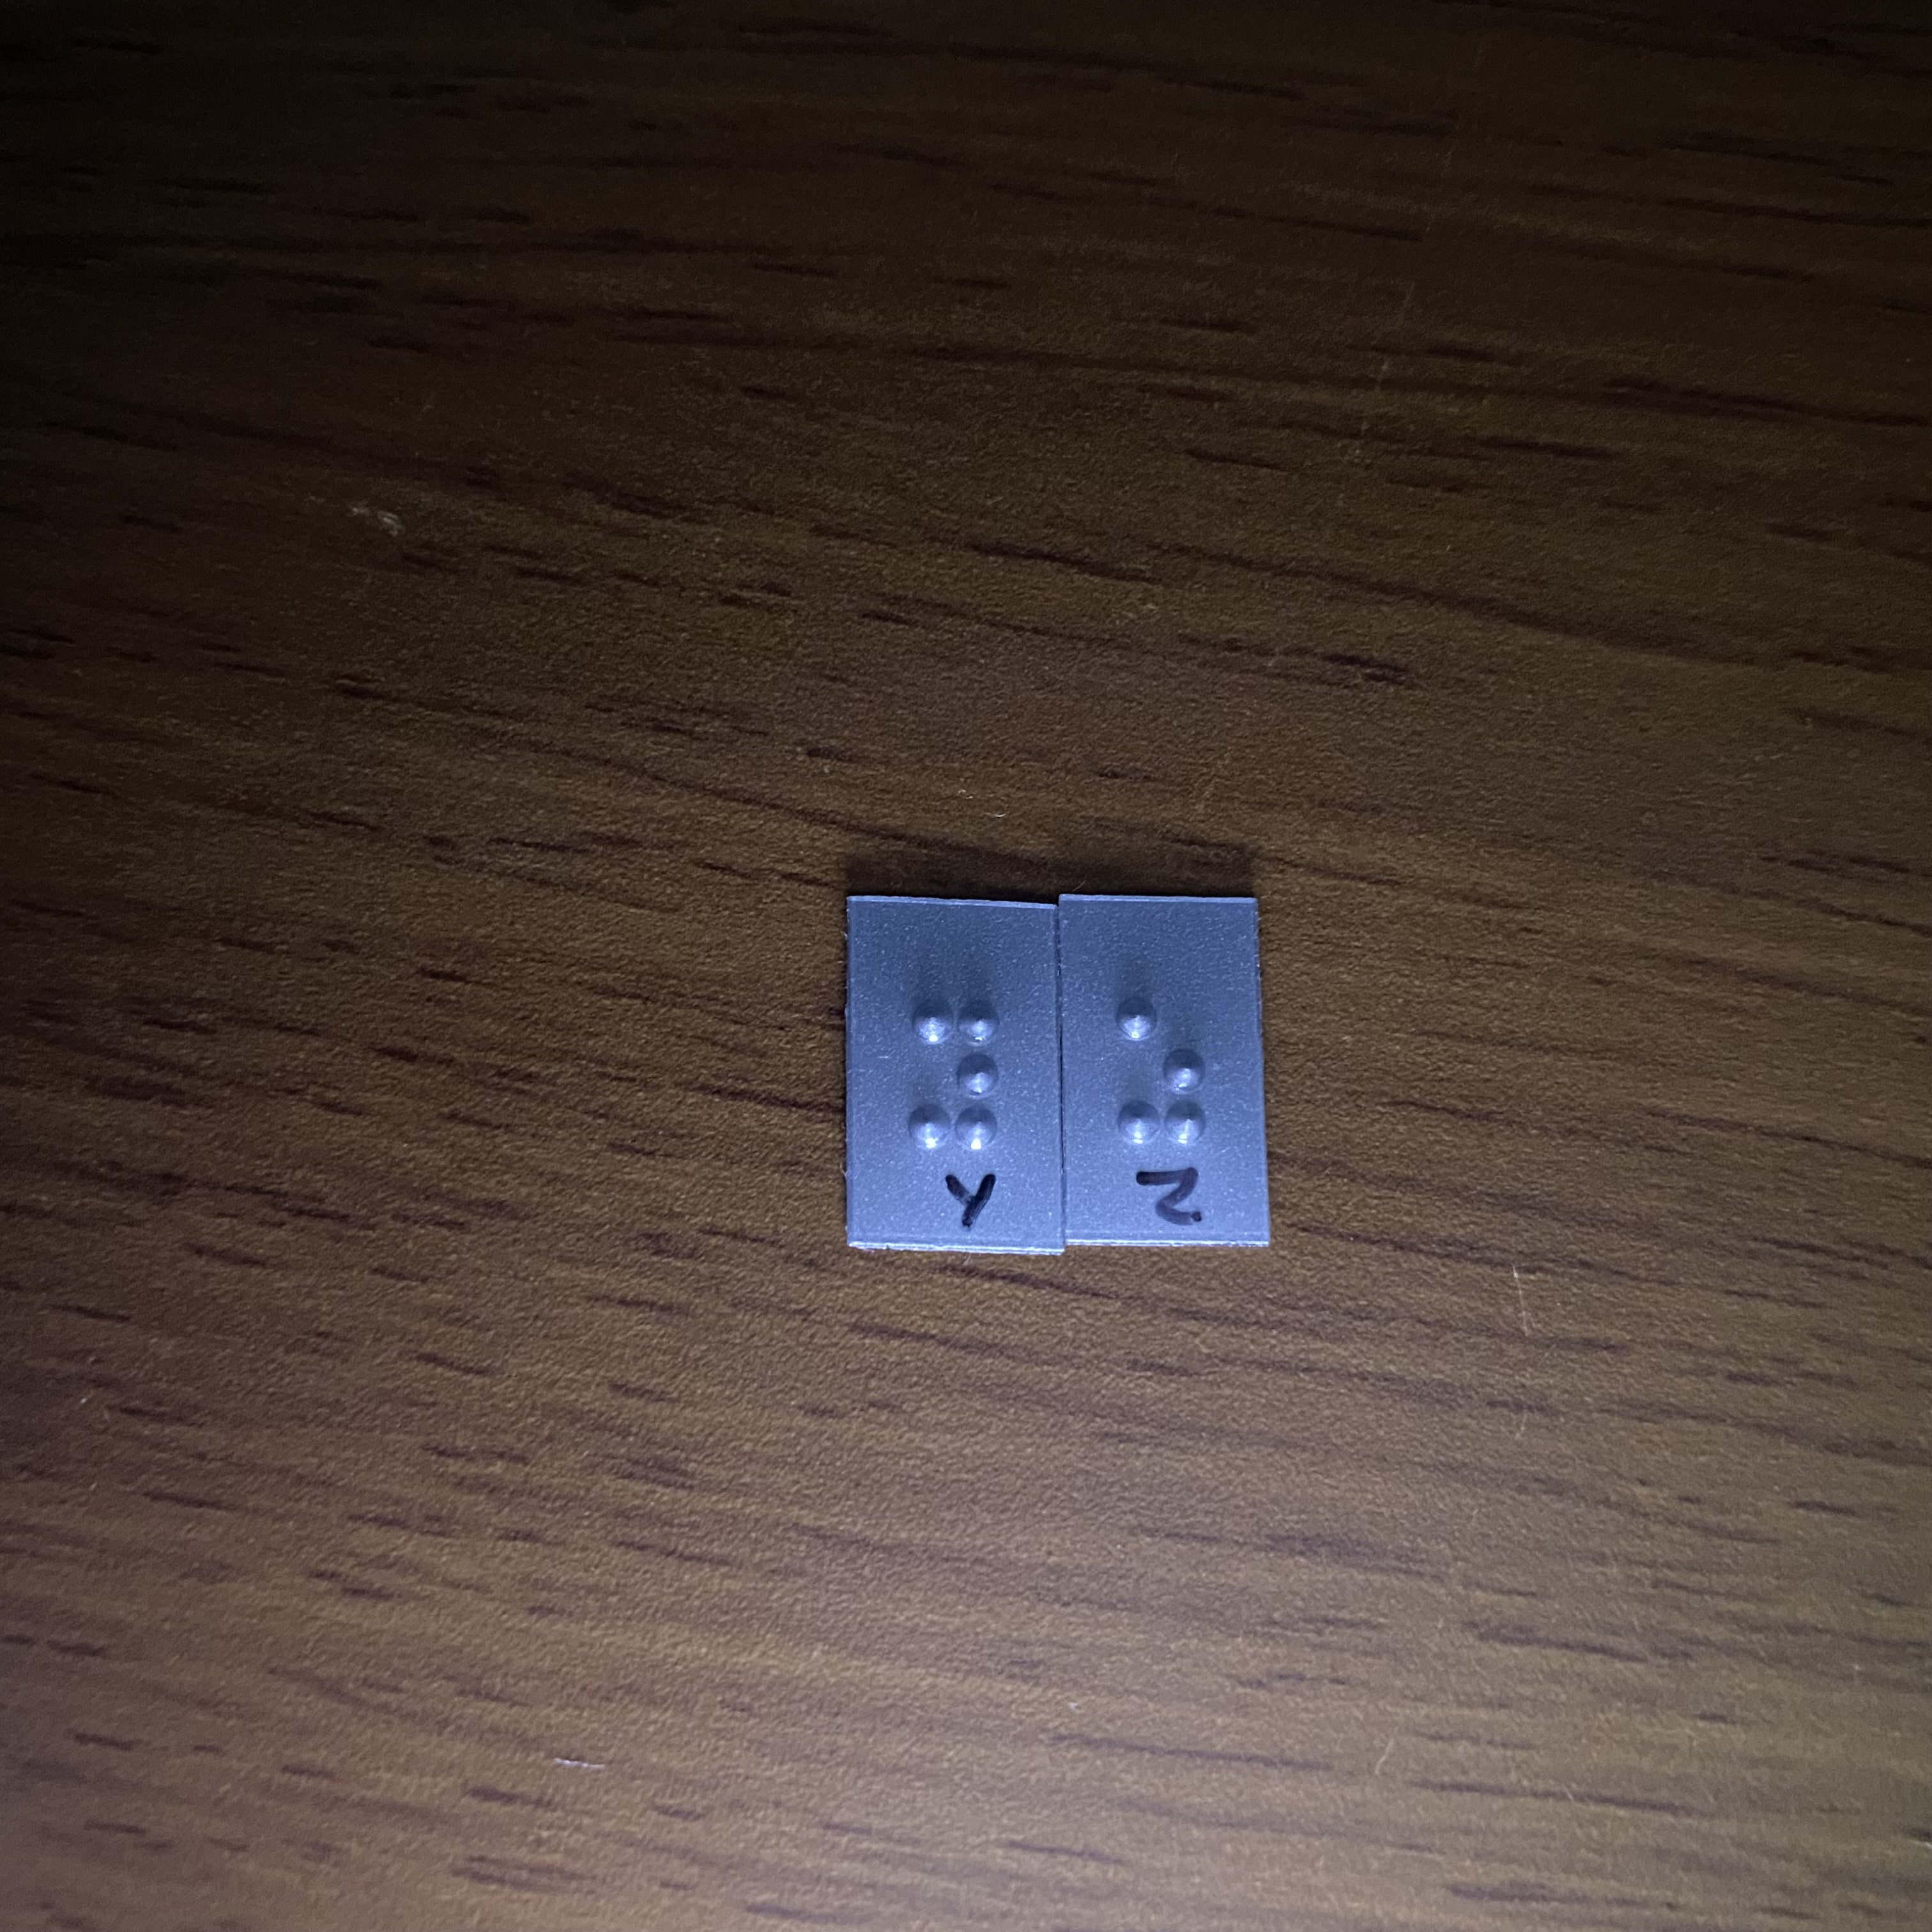y: (897, 967, 1018, 1161)
z: (1107, 971, 1225, 1147)
